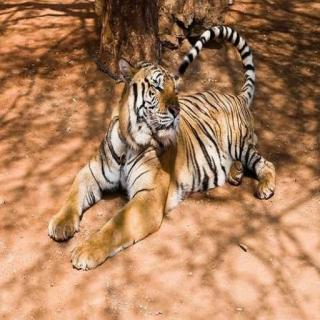Tiger: (43, 20, 280, 274)
